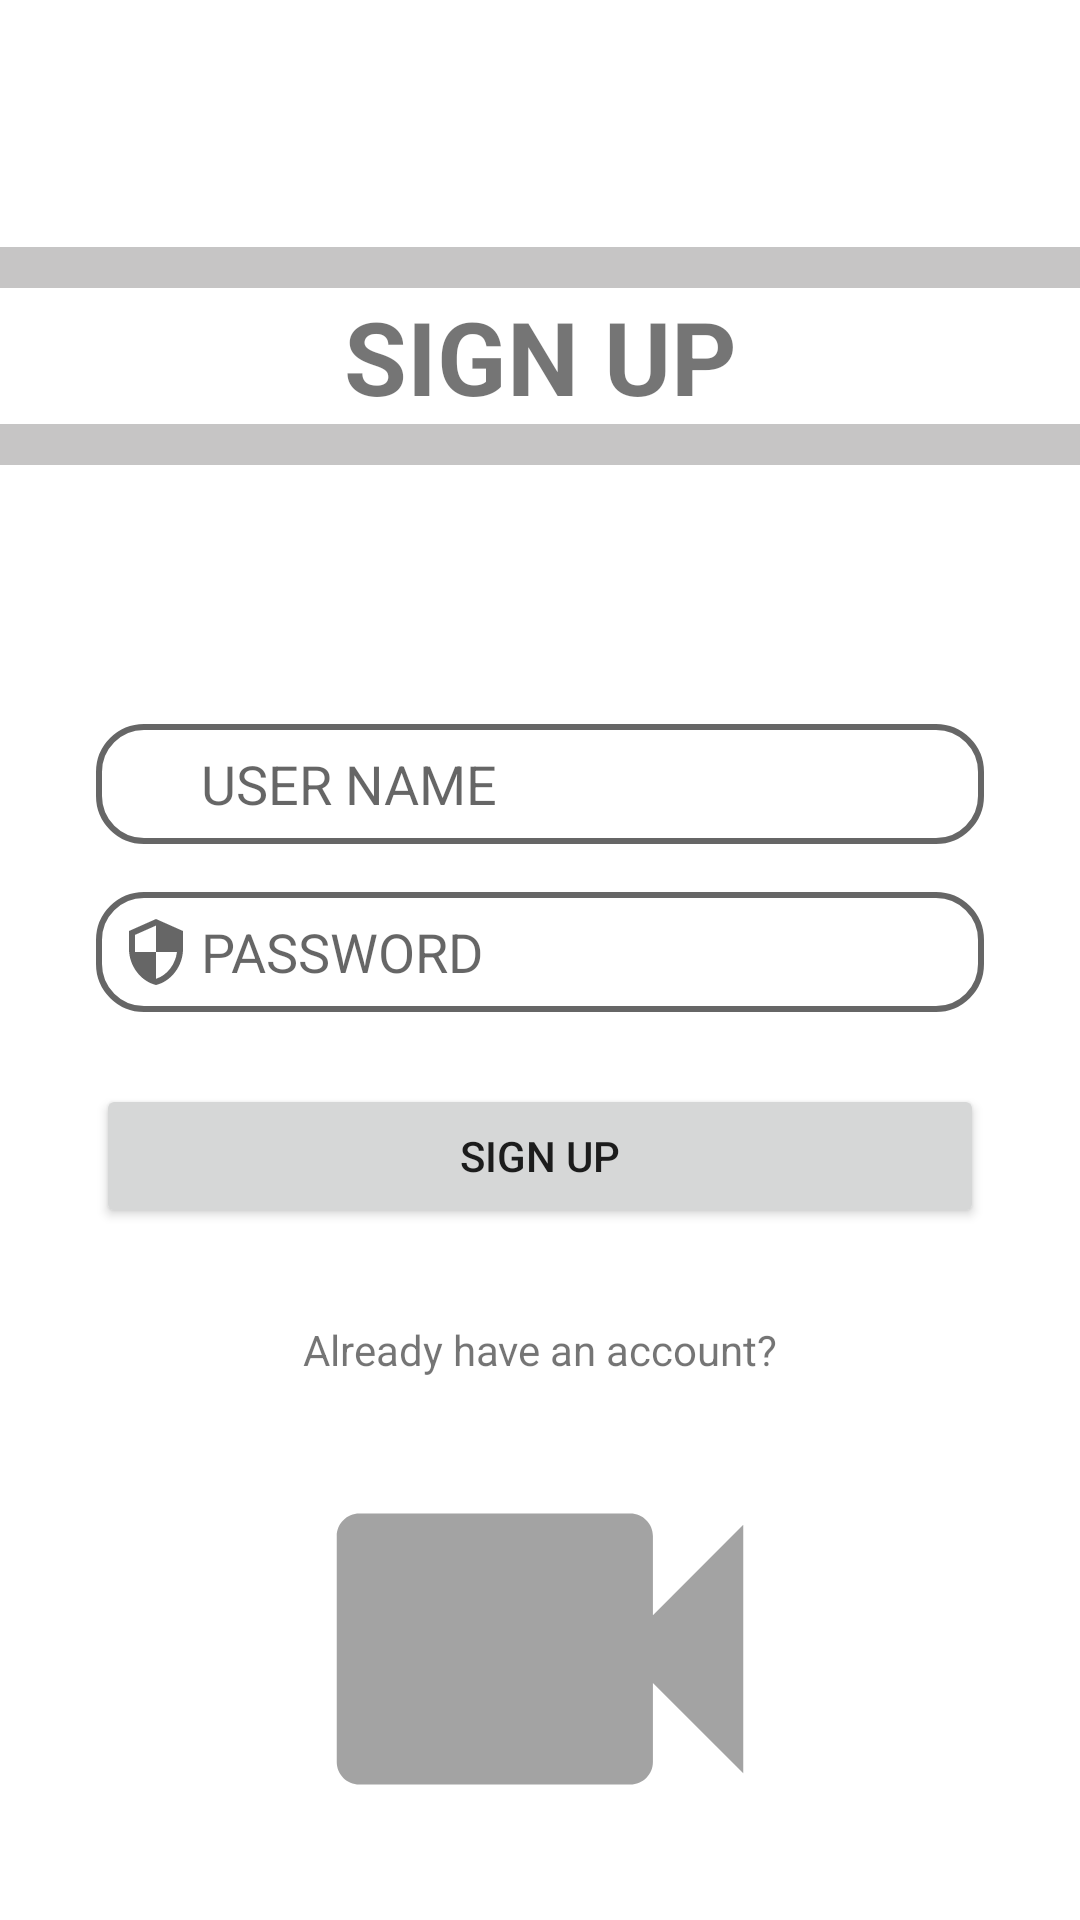

Icon bounding boxes for this 1080w x 1920h phone screenshot, format (x1, y1, x2, y2):
security: (129, 919, 183, 985)
